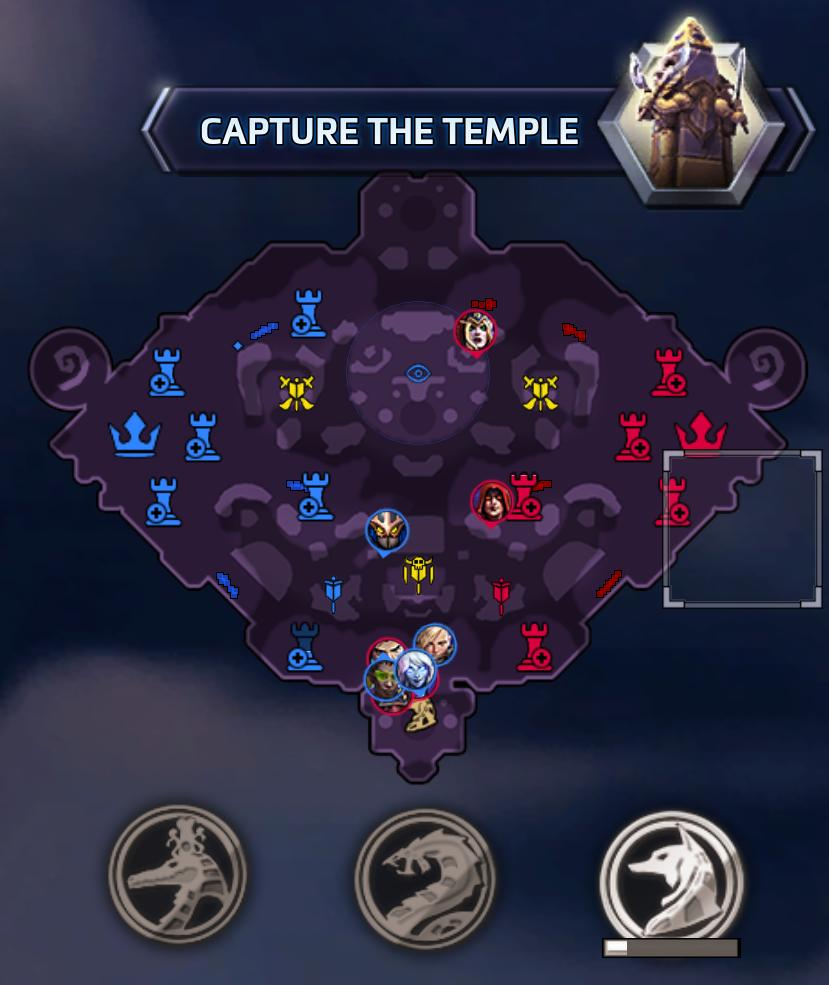blue nexus: (105, 405, 166, 467)
blue player: (393, 647, 439, 698), (363, 654, 405, 702), (413, 623, 457, 667), (365, 508, 408, 553)
blue tower: (293, 468, 336, 521), (284, 619, 324, 673), (147, 344, 186, 398), (183, 410, 222, 463), (144, 475, 183, 527), (290, 287, 328, 339)
red nexus: (673, 410, 729, 455)
red player: (453, 307, 496, 355), (368, 678, 417, 720), (362, 635, 411, 674), (470, 479, 513, 523)
red tower: (652, 474, 693, 534), (515, 617, 555, 676), (505, 472, 547, 525), (649, 345, 687, 398), (613, 410, 651, 462)
